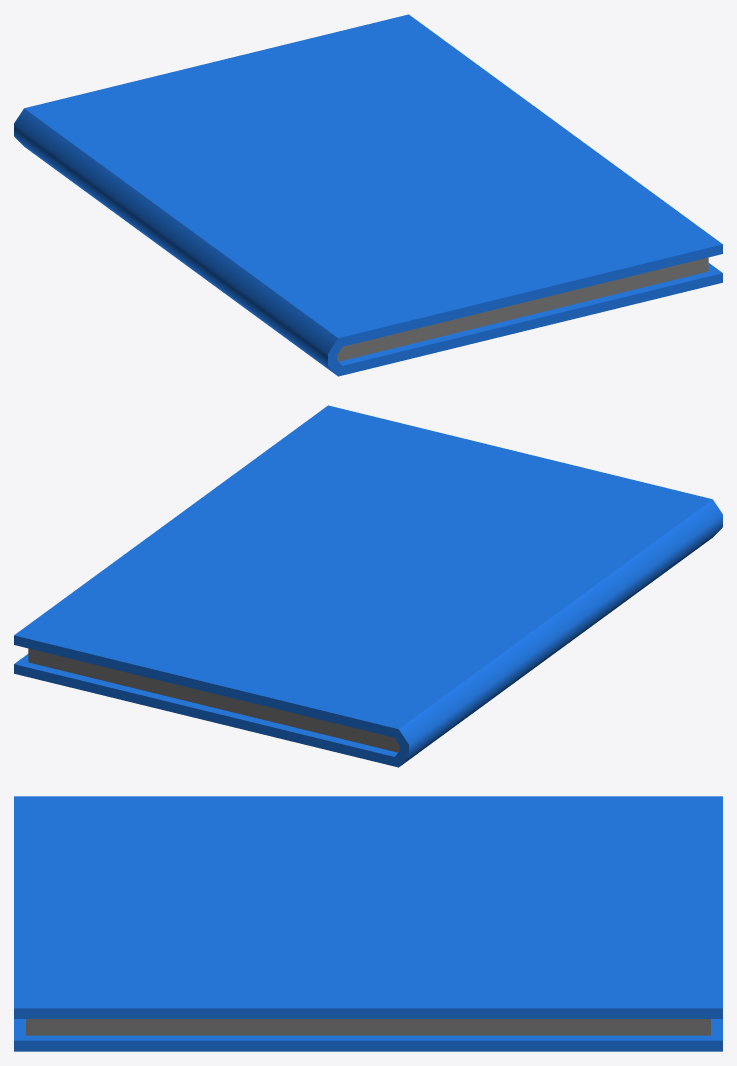
File: mesh_cahier.fbx
3 renders of one model, top to bottom at view 1: azimuth 30°, elevation 25°; view 2: azimuth 150°, elevation 25°; view 3: azimuth 270°, elevation 25°, orthographic. The views are drawn at different scales.
Visible parts, largest first — view 1: Box002; view 2: Box002; view 3: Box002.
Part boxes in pixels (x1,y1,x2,y2): Box002: [14, 14, 722, 376]; Box002: [14, 405, 722, 767]; Box002: [14, 796, 722, 1051].
Bounding box in the file's own units: 0.2545 × 0.0236 × 0.3507.
